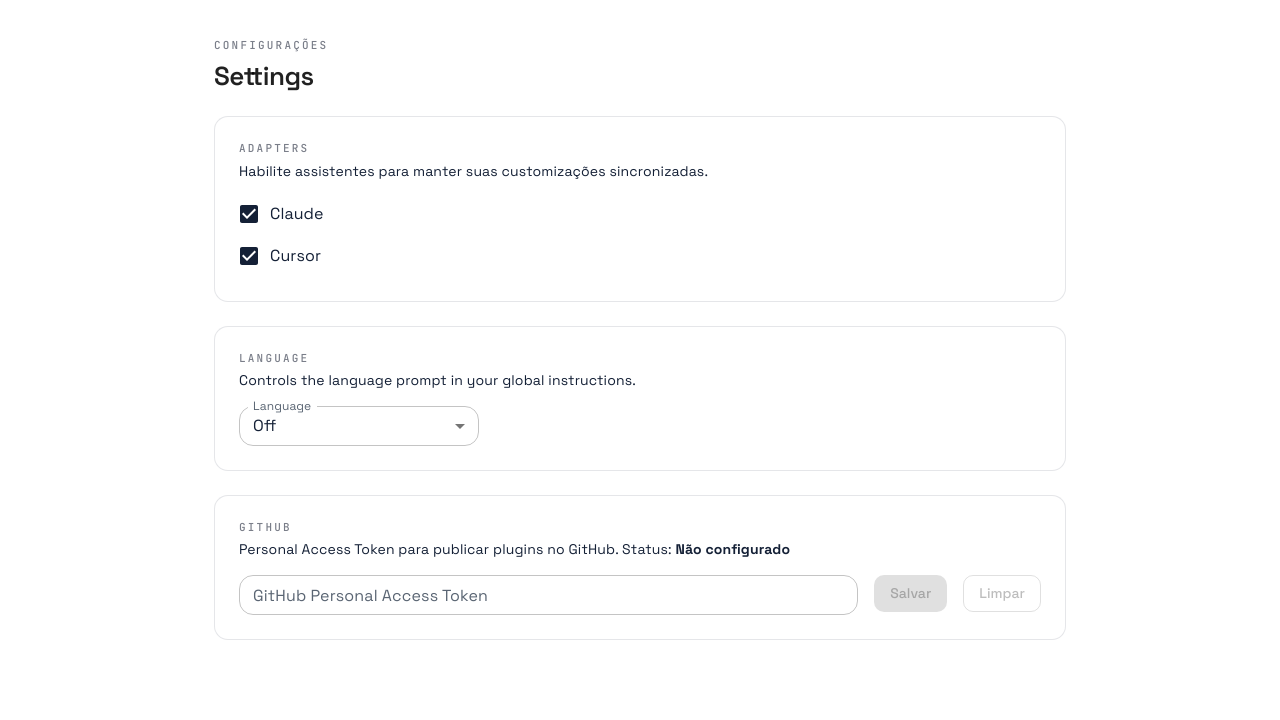
Scenario: <Settings> — cursor adapter toggle › toggling cursor off (when enabled) opens the disable modal for Cursor
This screenshot has width=1280, height=720.
Click the checkbox labelled "Cursor". click: (279, 256)
box: [237,244,321,268]
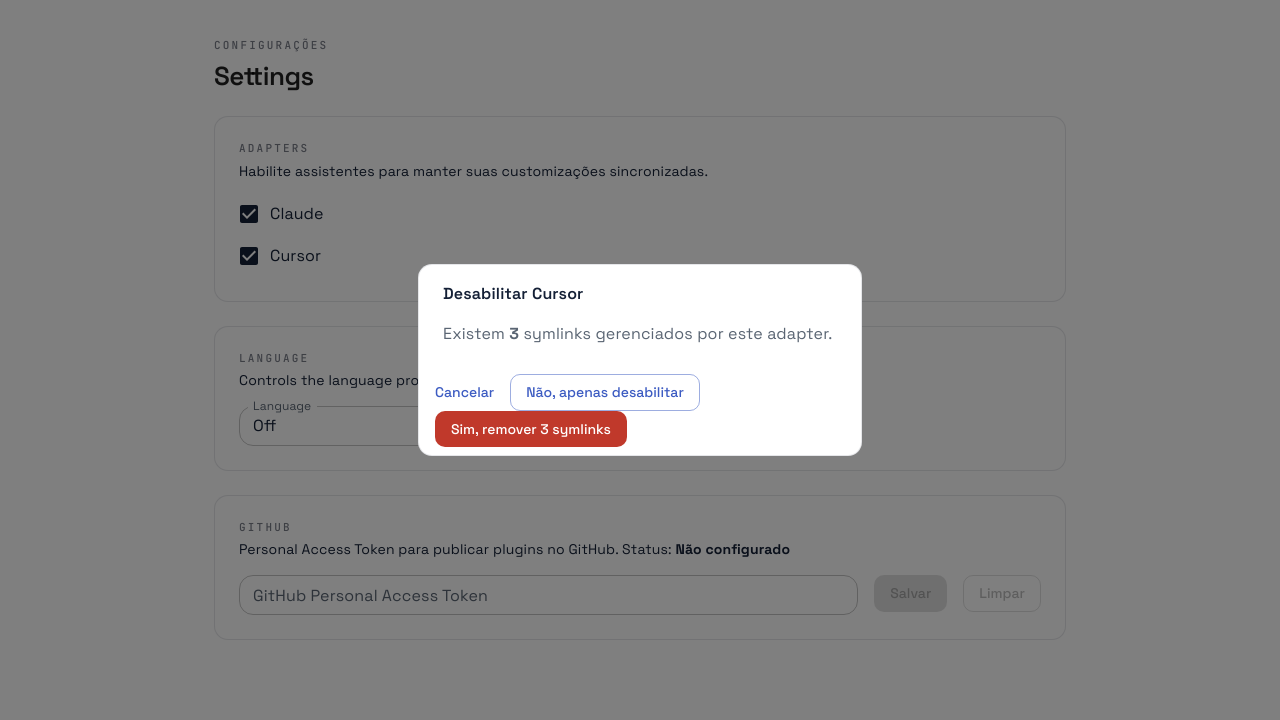
Result: the element with test id "confirm-disable-modal" is shown
